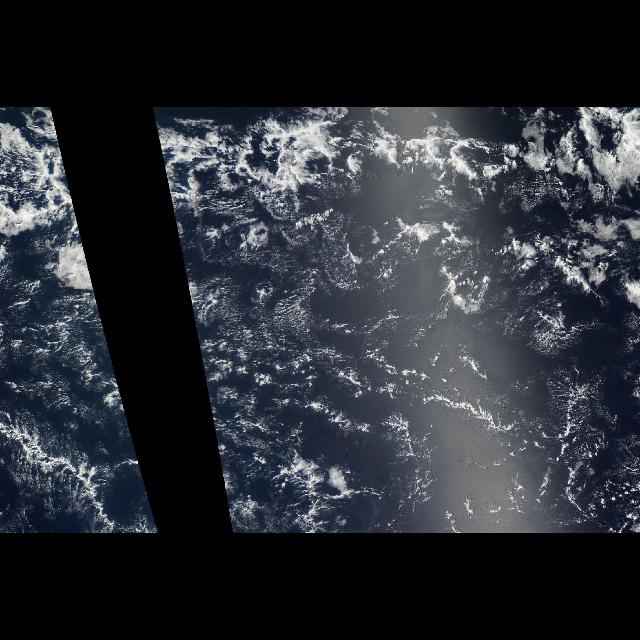Fish: (150, 107, 636, 203), (1, 107, 74, 203)
Gravel: (167, 120, 628, 532), (1, 315, 149, 533)
Sugar: (181, 209, 639, 533), (15, 252, 155, 520)
